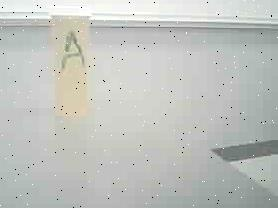Bottle A: (41, 0, 102, 127)
